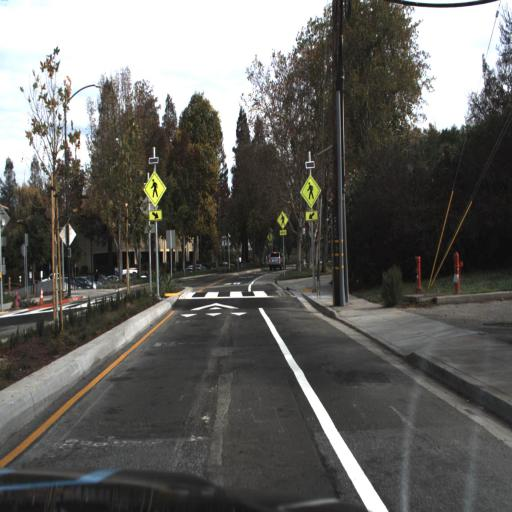car: (268, 251, 286, 270)
